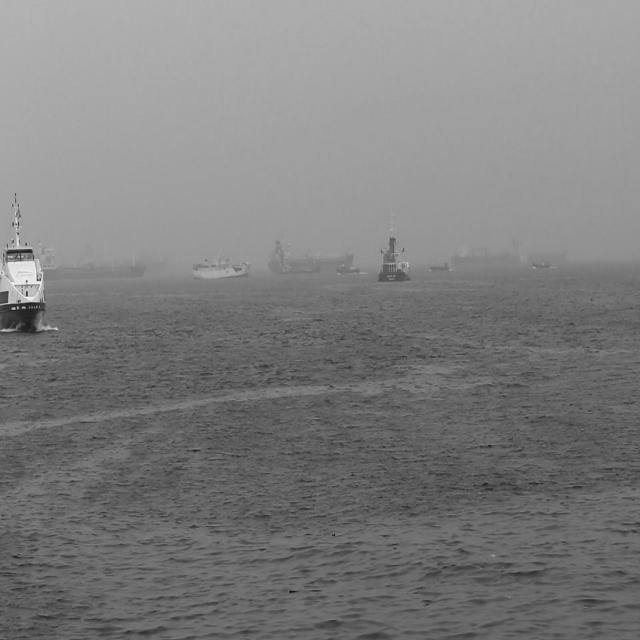ship: (0, 194, 46, 336), (37, 241, 148, 280), (267, 234, 356, 270), (378, 214, 408, 283), (446, 239, 520, 262), (192, 254, 252, 278), (526, 246, 570, 261), (337, 265, 362, 276), (531, 260, 552, 270), (429, 264, 451, 272)
